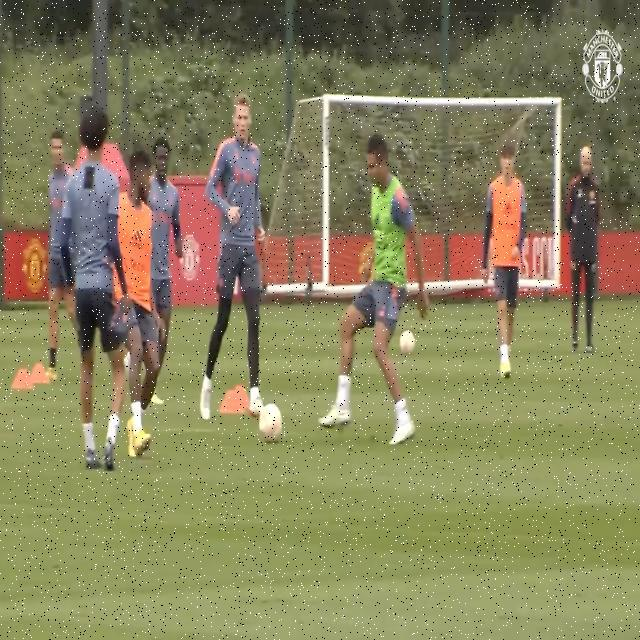Adidas: (128, 229, 144, 250), (373, 211, 385, 234)
